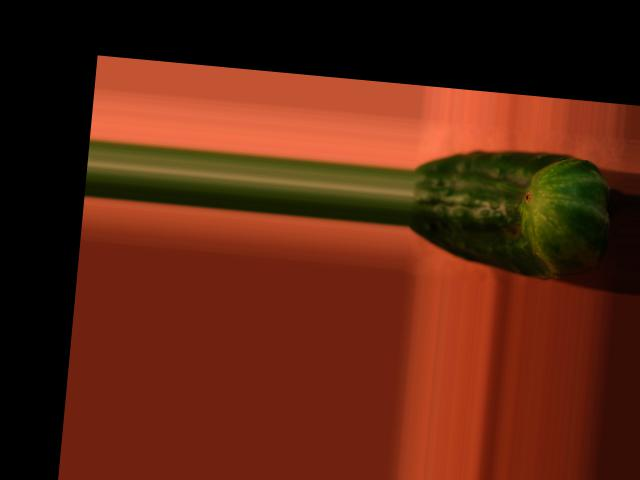cucumber: (404, 140, 615, 283)
